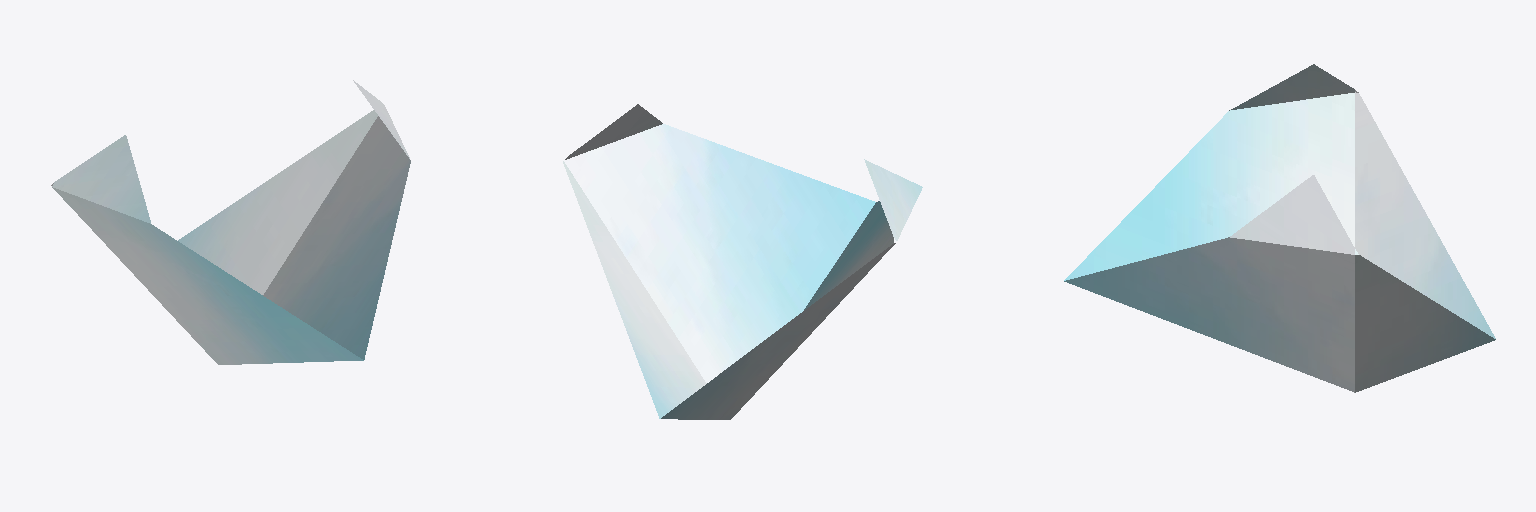
3 views of the same model, side by side, from view 1: azimuth 30°, elevation 25°; view 2: azimuth 150°, elevation 25°; view 3: azimuth 270°, elevation 25° (orthographic).
Parts seen in each view (by area): view 1: Diamond1:initialShadingGroup Diamond1:polySurface39 Diamond1:pol; view 2: Diamond1:initialShadingGroup Diamond1:polySurface39 Diamond1:pol; view 3: Diamond1:initialShadingGroup Diamond1:polySurface39 Diamond1:pol.
Part boxes in pixels (x1,y1,x2,y2): Diamond1:initialShadingGroup Diamond1:polySurface39 Diamond1:pol: (51,80,410,364); Diamond1:initialShadingGroup Diamond1:polySurface39 Diamond1:pol: (563,104,922,419); Diamond1:initialShadingGroup Diamond1:polySurface39 Diamond1:pol: (1064,64,1495,392).
Bounding box in the file's own units: 2.2 × 1.73 × 2.48.
1 materials, 1 textured.